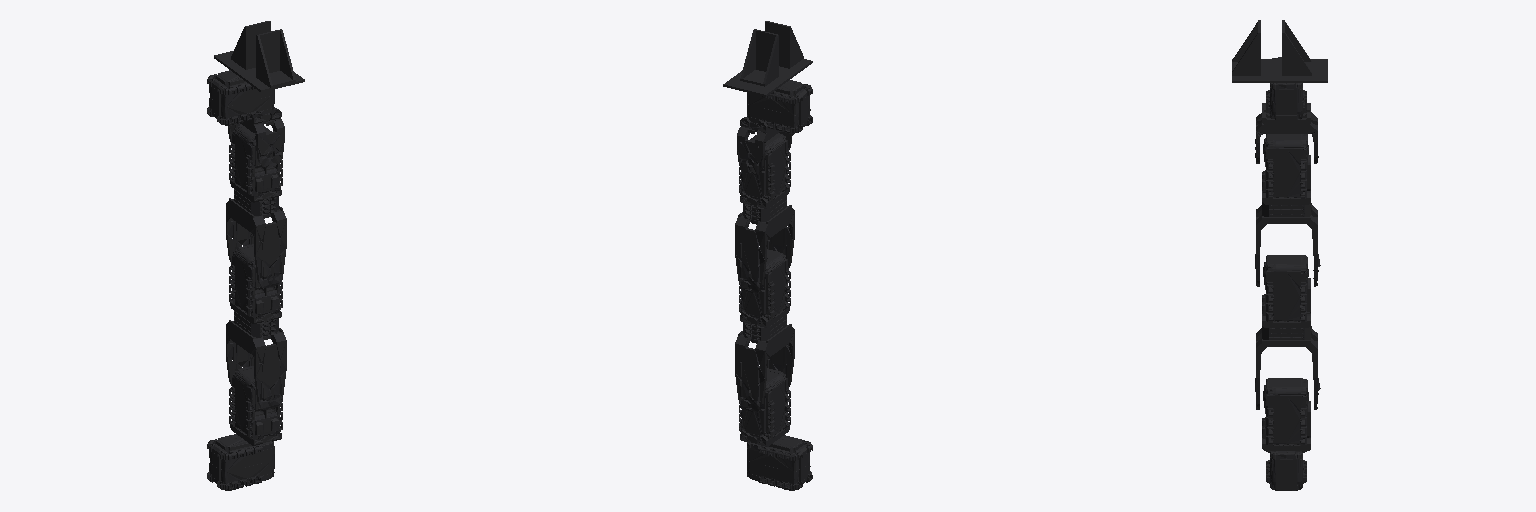
robot.urdf — turtlebot_arm:
<?xml version="1.0" ?>
<!-- =================================================================================== -->
<!-- |    This document was autogenerated by xacro from pincher_arm.urdf.xacro         | -->
<!-- |    EDITING THIS FILE BY HAND IS NOT RECOMMENDED                                 | -->
<!-- =================================================================================== -->
<!-- Describe URDF for PhantomX Pincher Arm -->
<robot name="turtlebot_arm" xmlns:xacro="http://ros.org/wiki/xacro">
  <!-- We can configure joints velocity limit and lower/upper limits
          to allow access to different operational areas, e.g. left handed vs. right handed robot -->
  <!-- Included URDF Files -->
  <!-- Pincher arm is same as Turtlebot -->
  <material name="White">
    <color rgba="0.87 0.90 0.87 1.0"/>
  </material>
  <material name="Black">
    <color rgba="0.08 0.08 0.08 1.0"/>
  </material>
  <material name="Gray">
    <color rgba="0.2 0.2 0.21 1.0"/>
  </material>
  <material name="Green">
    <color rgba="0.22 0.32 0.14 1.0"/>
  </material>
  <!-- As we don't have here a turtlebot base, add a base_link link as its location reference -->
  <link name="base_link"/>
  <!-- Turtlebot arm macro -->
  <link name="arm_base_link"/>
  <joint name="arm_base_joint" type="fixed">
    <origin xyz="0.1 0.03 0.435"/>
    <parent link="base_link"/>
    <child link="arm_base_link"/>
  </joint>
  <link name="gripper_link"/>
  <joint name="gripper_link_joint" type="revolute">
    <origin rpy="0 -1.57 0" xyz="0 0 0.112"/>
    <parent link="arm_wrist_flex_link"/>
    <child link="gripper_link"/>
    <limit effort="30" lower="-3.14" upper="3.14" velocity="1"/>
    <axis xyz="1 0 0"/>
  </joint>
  <joint name="arm_shoulder_pan_servo_joint" type="fixed">
    <origin rpy="1.570795 0 1.570795" xyz="0 0 0"/>
    <parent link="arm_base_link"/>
    <child link="arm_shoulder_pan_servo_link"/>
  </joint>
  <link name="arm_shoulder_pan_servo_link">
    <inertial>
      <mass value="0.055"/>
      <origin xyz="0 0 0"/>
      <inertia ixx="0.000017012" ixy="0.0" ixz="0.0" iyy="0.000013258" iyz="0.0" izz="0.000009483"/>
    </inertial>
    <visual>
      <origin rpy="0 0 0" xyz=" 0 0 0 "/>
      <geometry>
        <mesh filename="package://turtlebot_arm_description/meshes/ax12_box.stl" scale="0.001 0.001 0.001"/>
      </geometry>
      <material name="Gray"/>
    </visual>
    <collision>
      <origin rpy="0 0 0" xyz="0.0 0.0 -0.01241"/>
      <geometry>
        <box size="0.025 0.038 0.04762"/>
      </geometry>
    </collision>
  </link>
  <gazebo reference="arm_shoulder_pan_servo_link">
    <material>Gazebo/Black</material>
    <selfCollide>true</selfCollide>
    <gravity>true</gravity>
  </gazebo>
  <joint name="arm_shoulder_pan_joint" type="revolute">
    <origin rpy="-1.570795 1.570795 3.14159" xyz="0 0.019 0"/>
    <axis xyz="0 0 -1"/>
    <limit effort="30" lower="-2.617" upper="2.617" velocity="1.571"/>
    <dynamics friction="0.13"/>
    <parent link="arm_shoulder_pan_servo_link"/>
    <child link="arm_shoulder_pan_link"/>
  </joint>
  <link name="arm_shoulder_pan_link">
    <inertial>
      <mass value="0.008"/>
      <origin xyz="0 0 0"/>
      <inertia ixx="0.000001" ixy="0.0" ixz="0.0" iyy="0.000001" iyz="0.0" izz="0.000001"/>
    </inertial>
    <visual>
      <origin rpy="0 0 0" xyz=" 0 0 0 "/>
      <geometry>
        <mesh filename="package://turtlebot_arm_description/meshes/F3.stl" scale="0.001 0.001 0.001"/>
      </geometry>
      <material name="Gray"/>
    </visual>
    <collision>
      <origin rpy="0 0 0" xyz="0.0 0.0 -0.0045"/>
      <geometry>
        <box size="0.025 0.038 0.009"/>
      </geometry>
    </collision>
  </link>
  <gazebo reference="arm_shoulder_pan_link">
    <material>Gazebo/Gray</material>
    <selfCollide>true</selfCollide>
    <gravity>true</gravity>
  </gazebo>
  <joint name="arm_shoulder_lift_servo_joint" type="fixed">
    <origin rpy="0 3.14159 0" xyz="0 0 -0.0415"/>
    <parent link="arm_shoulder_pan_link"/>
    <child link="arm_shoulder_lift_servo_link"/>
  </joint>
  <link name="arm_shoulder_lift_servo_link">
    <inertial>
      <mass value="0.055"/>
      <origin xyz="0 0 0"/>
      <inertia ixx="0.000017012" ixy="0.0" ixz="0.0" iyy="0.000013258" iyz="0.0" izz="0.000009483"/>
    </inertial>
    <visual>
      <origin rpy="0 0 0" xyz=" 0 0 0 "/>
      <geometry>
        <mesh filename="package://turtlebot_arm_description/meshes/ax12_box.stl" scale="0.001 0.001 0.001"/>
      </geometry>
      <material name="Gray"/>
    </visual>
    <collision>
      <origin rpy="0 0 0" xyz="0.0 0.0 -0.01241"/>
      <geometry>
        <box size="0.025 0.038 0.04762"/>
      </geometry>
    </collision>
  </link>
  <gazebo reference="arm_shoulder_lift_servo_link">
    <material>Gazebo/Black</material>
    <selfCollide>true</selfCollide>
    <gravity>true</gravity>
  </gazebo>
  <joint name="arm_shoulder_lift_joint" type="revolute">
    <origin rpy="0 0 0" xyz="0 0 0"/>
    <axis xyz="0 1 0"/>
    <limit effort="30" lower="-2.617" upper="2.617" velocity="1.571"/>
    <dynamics friction="0.13"/>
    <parent link="arm_shoulder_lift_servo_link"/>
    <child link="arm_shoulder_lift_link"/>
  </joint>
  <link name="arm_shoulder_lift_link">
    <inertial>
      <mass value="0.016"/>
      <origin xyz="0 0 0"/>
      <inertia ixx="0.000001" ixy="0.0" ixz="0.0" iyy="0.000001" iyz="0.0" izz="0.000001"/>
    </inertial>
    <visual>
      <origin rpy="0 0 0" xyz=" 0 0 0 "/>
      <geometry>
        <mesh filename="package://turtlebot_arm_description/meshes/F4.stl" scale="0.001 0.001 0.001"/>
      </geometry>
      <material name="Gray"/>
    </visual>
    <collision>
      <origin rpy="0 0 0" xyz="0.0 0.0 0.0215"/>
      <geometry>
        <box size="0.028 0.0485 0.065"/>
      </geometry>
    </collision>
  </link>
  <gazebo reference="arm_shoulder_lift_link">
    <material>Gazebo/Gray</material>
    <selfCollide>true</selfCollide>
    <gravity>true</gravity>
  </gazebo>
  <joint name="arm_shoulder_F10_0_joint" type="fixed">
    <origin rpy="0 0 0" xyz="0 0 0.0545"/>
    <parent link="arm_shoulder_lift_link"/>
    <child link="arm_shoulder_F10_0_link"/>
  </joint>
  <link name="arm_shoulder_F10_0_link">
    <inertial>
      <mass value="0.004"/>
      <origin xyz="0 0 0"/>
      <inertia ixx="0.000001" ixy="0.0" ixz="0.0" iyy="0.000001" iyz="0.0" izz="0.000001"/>
    </inertial>
    <visual>
      <origin rpy="0 0 0" xyz=" 0 0 0 "/>
      <geometry>
        <mesh filename="package://turtlebot_arm_description/meshes/F10.stl" scale="0.001 0.001 0.001"/>
      </geometry>
      <material name="Gray"/>
    </visual>
    <collision>
      <origin rpy="0 0 0" xyz="0.0 0.0 0.0"/>
      <geometry>
        <box size="0.025 0.038 0.004"/>
      </geometry>
    </collision>
  </link>
  <gazebo reference="arm_shoulder_F10_0_link">
    <material>Gazebo/Gray</material>
    <selfCollide>true</selfCollide>
    <gravity>true</gravity>
  </gazebo>
  <joint name="arm_shoulder_F10_1_joint" type="fixed">
    <origin rpy="0 0 0" xyz="0 0 0.004"/>
    <parent link="arm_shoulder_F10_0_link"/>
    <child link="arm_shoulder_F10_1_link"/>
  </joint>
  <link name="arm_shoulder_F10_1_link">
    <inertial>
      <mass value="0.004"/>
      <origin xyz="0 0 0"/>
      <inertia ixx="0.000001" ixy="0.0" ixz="0.0" iyy="0.000001" iyz="0.0" izz="0.000001"/>
    </inertial>
    <visual>
      <origin rpy="0 0 0" xyz=" 0 0 0 "/>
      <geometry>
        <mesh filename="package://turtlebot_arm_description/meshes/F10.stl" scale="0.001 0.001 0.001"/>
      </geometry>
      <material name="Gray"/>
    </visual>
    <collision>
      <origin rpy="0 0 0" xyz="0.0 0.0 0.0"/>
      <geometry>
        <box size="0.025 0.038 0.004"/>
      </geometry>
    </collision>
  </link>
  <gazebo reference="arm_shoulder_F10_1_link">
    <material>Gazebo/Gray</material>
    <selfCollide>true</selfCollide>
    <gravity>true</gravity>
  </gazebo>
  <joint name="arm_shoulder_F10_2_joint" type="fixed">
    <origin rpy="0 0 0" xyz="0 0 0.004"/>
    <parent link="arm_shoulder_F10_1_link"/>
    <child link="arm_shoulder_F10_2_link"/>
  </joint>
  <link name="arm_shoulder_F10_2_link">
    <inertial>
      <mass value="0.004"/>
      <origin xyz="0 0 0"/>
      <inertia ixx="0.000001" ixy="0.0" ixz="0.0" iyy="0.000001" iyz="0.0" izz="0.000001"/>
    </inertial>
    <visual>
      <origin rpy="0 0 0" xyz=" 0 0 0 "/>
      <geometry>
        <mesh filename="package://turtlebot_arm_description/meshes/F10.stl" scale="0.001 0.001 0.001"/>
      </geometry>
      <material name="Gray"/>
    </visual>
    <collision>
      <origin rpy="0 0 0" xyz="0.0 0.0 0.0"/>
      <geometry>
        <box size="0.025 0.038 0.004"/>
      </geometry>
    </collision>
  </link>
  <gazebo reference="arm_shoulder_F10_2_link">
    <material>Gazebo/Gray</material>
    <selfCollide>true</selfCollide>
    <gravity>true</gravity>
  </gazebo>
  <joint name="arm_shoulder_F3_0_joint" type="fixed">
    <origin rpy="0 3.14159 0" xyz="0 0 0.002"/>
    <parent link="arm_shoulder_F10_2_link"/>
    <child link="arm_shoulder_F3_0_link"/>
  </joint>
  <link name="arm_shoulder_F3_0_link">
    <inertial>
      <mass value="0.005"/>
      <origin xyz="0 0 0"/>
      <inertia ixx="0.000001" ixy="0.0" ixz="0.0" iyy="0.000001" iyz="0.0" izz="0.000001"/>
    </inertial>
    <visual>
      <origin rpy="0 0 0" xyz=" 0 0 0 "/>
      <geometry>
        <mesh filename="package://turtlebot_arm_description/meshes/F3.stl" scale="0.001 0.001 0.001"/>
      </geometry>
      <material name="Gray"/>
    </visual>
    <collision>
      <origin rpy="0 0 0" xyz="0.0 0.0 -0.0045"/>
      <geometry>
        <box size="0.025 0.038 0.009"/>
      </geometry>
    </collision>
  </link>
  <gazebo reference="arm_shoulder_F3_0_link">
    <material>Gazebo/Gray</material>
    <selfCollide>true</selfCollide>
    <gravity>true</gravity>
  </gazebo>
  <joint name="arm_elbow_flex_servo_joint" type="fixed">
    <origin rpy="0 3.14159 0" xyz="0 0 -0.0415"/>
    <parent link="arm_shoulder_F3_0_link"/>
    <child link="arm_elbow_flex_servo_link"/>
  </joint>
  <link name="arm_elbow_flex_servo_link">
    <inertial>
      <mass value="0.055"/>
      <origin xyz="0 0 0"/>
      <inertia ixx="0.000017012" ixy="0.0" ixz="0.0" iyy="0.000013258" iyz="0.0" izz="0.000009483"/>
    </inertial>
    <visual>
      <origin rpy="0 0 0" xyz=" 0 0 0 "/>
      <geometry>
        <mesh filename="package://turtlebot_arm_description/meshes/ax12_box.stl" scale="0.001 0.001 0.001"/>
      </geometry>
      <material name="Gray"/>
    </visual>
    <collision>
      <origin rpy="0 0 0" xyz="0.0 0.0 -0.01241"/>
      <geometry>
        <box size="0.025 0.038 0.04762"/>
      </geometry>
    </collision>
  </link>
  <gazebo reference="arm_elbow_flex_servo_link">
    <material>Gazebo/Black</material>
    <selfCollide>true</selfCollide>
    <gravity>true</gravity>
  </gazebo>
  <joint name="arm_elbow_flex_joint" type="revolute">
    <origin rpy="0 0 0" xyz="0 0 0"/>
    <axis xyz="0 1 0"/>
    <limit effort="30" lower="-2.617" upper="2.617" velocity="1.571"/>
    <dynamics friction="0.13"/>
    <parent link="arm_elbow_flex_servo_link"/>
    <child link="arm_elbow_flex_link"/>
  </joint>
  <link name="arm_elbow_flex_link">
    <inertial>
      <mass value="0.016"/>
      <origin xyz="0 0 0"/>
      <inertia ixx="0.000001" ixy="0.0" ixz="0.0" iyy="0.000001" iyz="0.0" izz="0.000001"/>
    </inertial>
    <visual>
      <origin rpy="0 0 0" xyz=" 0 0 0 "/>
      <geometry>
        <mesh filename="package://turtlebot_arm_description/meshes/F4.stl" scale="0.001 0.001 0.001"/>
      </geometry>
      <material name="Gray"/>
    </visual>
    <collision>
      <origin rpy="0 0 0" xyz="0.0 0.0 0.0215"/>
      <geometry>
        <box size="0.028 0.0485 0.065"/>
      </geometry>
    </collision>
  </link>
  <gazebo reference="arm_elbow_flex_link">
    <material>Gazebo/Gray</material>
    <selfCollide>true</selfCollide>
    <gravity>true</gravity>
  </gazebo>
  <joint name="arm_elbow_F10_0_joint" type="fixed">
    <origin rpy="0 0 0" xyz="0 0 0.0545"/>
    <parent link="arm_elbow_flex_link"/>
    <child link="arm_elbow_F10_0_link"/>
  </joint>
  <link name="arm_elbow_F10_0_link">
    <inertial>
      <mass value="0.004"/>
      <origin xyz="0 0 0"/>
      <inertia ixx="0.000001" ixy="0.0" ixz="0.0" iyy="0.000001" iyz="0.0" izz="0.000001"/>
    </inertial>
    <visual>
      <origin rpy="0 0 0" xyz=" 0 0 0 "/>
      <geometry>
        <mesh filename="package://turtlebot_arm_description/meshes/F10.stl" scale="0.001 0.001 0.001"/>
      </geometry>
      <material name="Gray"/>
    </visual>
    <collision>
      <origin rpy="0 0 0" xyz="0.0 0.0 0.0"/>
      <geometry>
        <box size="0.025 0.038 0.004"/>
      </geometry>
    </collision>
  </link>
  <gazebo reference="arm_elbow_F10_0_link">
    <material>Gazebo/Gray</material>
    <selfCollide>true</selfCollide>
    <gravity>true</gravity>
  </gazebo>
  <joint name="arm_elbow_F10_1_joint" type="fixed">
    <origin rpy="0 0 0" xyz="0 0 0.004"/>
    <parent link="arm_elbow_F10_0_link"/>
    <child link="arm_elbow_F10_1_link"/>
  </joint>
  <link name="arm_elbow_F10_1_link">
    <inertial>
      <mass value="0.004"/>
      <origin xyz="0 0 0"/>
      <inertia ixx="0.000001" ixy="0.0" ixz="0.0" iyy="0.000001" iyz="0.0" izz="0.000001"/>
    </inertial>
    <visual>
      <origin rpy="0 0 0" xyz=" 0 0 0 "/>
      <geometry>
        <mesh filename="package://turtlebot_arm_description/meshes/F10.stl" scale="0.001 0.001 0.001"/>
      </geometry>
      <material name="Gray"/>
    </visual>
    <collision>
      <origin rpy="0 0 0" xyz="0.0 0.0 0.0"/>
      <geometry>
        <box size="0.025 0.038 0.004"/>
      </geometry>
    </collision>
  </link>
  <gazebo reference="arm_elbow_F10_1_link">
    <material>Gazebo/Gray</material>
    <selfCollide>true</selfCollide>
    <gravity>true</gravity>
  </gazebo>
  <joint name="arm_elbow_F10_2_joint" type="fixed">
    <origin rpy="0 0 0" xyz="0 0 0.004"/>
    <parent link="arm_elbow_F10_1_link"/>
    <child link="arm_elbow_F10_2_link"/>
  </joint>
  <link name="arm_elbow_F10_2_link">
    <inertial>
      <mass value="0.004"/>
      <origin xyz="0 0 0"/>
      <inertia ixx="0.000001" ixy="0.0" ixz="0.0" iyy="0.000001" iyz="0.0" izz="0.000001"/>
    </inertial>
    <visual>
      <origin rpy="0 0 0" xyz=" 0 0 0 "/>
      <geometry>
        <mesh filename="package://turtlebot_arm_description/meshes/F10.stl" scale="0.001 0.001 0.001"/>
      </geometry>
      <material name="Gray"/>
    </visual>
    <collision>
      <origin rpy="0 0 0" xyz="0.0 0.0 0.0"/>
      <geometry>
        <box size="0.025 0.038 0.004"/>
      </geometry>
    </collision>
  </link>
  <gazebo reference="arm_elbow_F10_2_link">
    <material>Gazebo/Gray</material>
    <selfCollide>true</selfCollide>
    <gravity>true</gravity>
  </gazebo>
  <joint name="arm_elbow_F3_0_joint" type="fixed">
    <origin rpy="0 3.14159 0" xyz="0 0 0.002"/>
    <parent link="arm_elbow_F10_2_link"/>
    <child link="arm_elbow_F3_0_link"/>
  </joint>
  <link name="arm_elbow_F3_0_link">
    <inertial>
      <mass value="0.005"/>
      <origin xyz="0 0 0"/>
      <inertia ixx="0.000001" ixy="0.0" ixz="0.0" iyy="0.000001" iyz="0.0" izz="0.000001"/>
    </inertial>
    <visual>
      <origin rpy="0 0 0" xyz=" 0 0 0 "/>
      <geometry>
        <mesh filename="package://turtlebot_arm_description/meshes/F3.stl" scale="0.001 0.001 0.001"/>
      </geometry>
      <material name="Gray"/>
    </visual>
    <collision>
      <origin rpy="0 0 0" xyz="0.0 0.0 -0.0045"/>
      <geometry>
        <box size="0.025 0.038 0.009"/>
      </geometry>
    </collision>
  </link>
  <gazebo reference="arm_elbow_F3_0_link">
    <material>Gazebo/Gray</material>
    <selfCollide>true</selfCollide>
    <gravity>true</gravity>
  </gazebo>
  <joint name="arm_wrist_flex_servo_joint" type="fixed">
    <origin rpy="0 3.14159 0" xyz="0 0 -0.0415"/>
    <parent link="arm_elbow_F3_0_link"/>
    <child link="arm_wrist_flex_servo_link"/>
  </joint>
  <link name="arm_wrist_flex_servo_link">
    <inertial>
      <mass value="0.055"/>
      <origin xyz="0 0 0"/>
      <inertia ixx="0.000017012" ixy="0.0" ixz="0.0" iyy="0.000013258" iyz="0.0" izz="0.000009483"/>
    </inertial>
    <visual>
      <origin rpy="0 0 0" xyz=" 0 0 0 "/>
      <geometry>
        <mesh filename="package://turtlebot_arm_description/meshes/ax12_box.stl" scale="0.001 0.001 0.001"/>
      </geometry>
      <material name="Gray"/>
    </visual>
    <collision>
      <origin rpy="0 0 0" xyz="0.0 0.0 -0.01241"/>
      <geometry>
        <box size="0.025 0.038 0.04762"/>
      </geometry>
    </collision>
  </link>
  <gazebo reference="arm_wrist_flex_servo_link">
    <material>Gazebo/Black</material>
    <selfCollide>true</selfCollide>
    <gravity>true</gravity>
  </gazebo>
  <joint name="arm_wrist_flex_joint" type="revolute">
    <origin rpy="0 0 0" xyz="0 0 0"/>
    <axis xyz="0 1 0"/>
    <limit effort="30" lower="-1.745" upper="1.745" velocity="1.571"/>
    <dynamics friction="0.13"/>
    <parent link="arm_wrist_flex_servo_link"/>
    <child link="arm_wrist_flex_link"/>
  </joint>
  <link name="arm_wrist_flex_link">
    <inertial>
      <mass value="0.010"/>
      <origin xyz="0 0 0"/>
      <inertia ixx="0.000001" ixy="0.0" ixz="0.0" iyy="0.000001" iyz="0.0" izz="0.000001"/>
    </inertial>
    <visual>
      <origin rpy="0 0 0" xyz=" 0 0 0 "/>
      <geometry>
        <mesh filename="package://turtlebot_arm_description/meshes/F2.stl" scale="0.001 0.001 0.001"/>
      </geometry>
      <material name="Gray"/>
    </visual>
    <collision>
      <origin rpy="0 0 0" xyz="0.0 0.0 0.00775"/>
      <geometry>
        <box size="0.025 0.0485 0.0375"/>
      </geometry>
    </collision>
  </link>
  <gazebo reference="arm_wrist_flex_link">
    <material>Gazebo/Gray</material>
    <selfCollide>true</selfCollide>
    <gravity>true</gravity>
  </gazebo>
  <joint name="arm_wrist_F3_0_joint" type="fixed">
    <origin rpy="0 3.14159 -3.14159" xyz="0 0 0.0265"/>
    <parent link="arm_wrist_flex_link"/>
    <child link="arm_wrist_F3_0_link"/>
  </joint>
  <link name="arm_wrist_F3_0_link">
    <inertial>
      <mass value="0.005"/>
      <origin xyz="0 0 0"/>
      <inertia ixx="0.000001" ixy="0.0" ixz="0.0" iyy="0.000001" iyz="0.0" izz="0.000001"/>
    </inertial>
    <visual>
      <origin rpy="0 0 0" xyz=" 0 0 0 "/>
      <geometry>
        <mesh filename="package://turtlebot_arm_description/meshes/F3.stl" scale="0.001 0.001 0.001"/>
      </geometry>
      <material name="Gray"/>
    </visual>
    <collision>
      <origin rpy="0 0 0" xyz="0.0 0.0 -0.0045"/>
      <geometry>
        <box size="0.025 0.038 0.009"/>
      </geometry>
    </collision>
  </link>
  <gazebo reference="arm_wrist_F3_0_link">
    <material>Gazebo/Gray</material>
    <selfCollide>true</selfCollide>
    <gravity>true</gravity>
  </gazebo>
  <joint name="gripper_servo_joint" type="fixed">
    <origin rpy="1.570795 3.14159 1.570795" xyz="0 0 -0.019"/>
    <parent link="arm_wrist_F3_0_link"/>
    <child link="gripper_servo_link"/>
  </joint>
  <link name="gripper_servo_link">
    <inertial>
      <mass value="0.055"/>
      <origin xyz="0 0 0"/>
      <inertia ixx="0.000017012" ixy="0.0" ixz="0.0" iyy="0.000013258" iyz="0.0" izz="0.000009483"/>
    </inertial>
    <visual>
      <origin rpy="0 0 0" xyz=" 0 0 0 "/>
      <geometry>
        <mesh filename="package://turtlebot_arm_description/meshes/ax12_box.stl" scale="0.001 0.001 0.001"/>
      </geometry>
      <material name="Gray"/>
    </visual>
    <collision>
      <origin rpy="0 0 0" xyz="0.0 0.0 -0.01241"/>
      <geometry>
        <box size="0.025 0.038 0.04762"/>
      </geometry>
    </collision>
  </link>
  <gazebo reference="gripper_servo_link">
    <material>Gazebo/Black</material>
    <selfCollide>true</selfCollide>
    <gravity>true</gravity>
  </gazebo>
  <joint name="gripper_finger_base_joint" type="fixed">
    <origin rpy="1.570795 -3.14159 1.570795" xyz="0.01  0.038 0"/>
    <parent link="gripper_servo_link"/>
    <child link="gripper_finger_base_link"/>
  </joint>
  <link name="gripper_finger_base_link">
    <inertial>
      <mass value="0.00001"/>
      <origin xyz="0 0 0"/>
      <inertia ixx="1.0" ixy="0.0" ixz="0.0" iyy="1.0" iyz="0.0" izz="1.0"/>
    </inertial>
    <visual>
      <origin rpy="3.14159 -1.570795 1.570795" xyz="0.016 0 -.015 "/>
      <geometry>
        <mesh filename="package://turtlebot_arm_description/meshes/pincher_finger_base.stl" scale=".01 .01 .01"/>
      </geometry>
      <material name="Gray"/>
    </visual>
    <collision>
      <origin rpy="0 0 0" xyz="0.015 0 -0.0135"/>
      <geometry>
        <box size="0.002 0.040 0.075"/>
      </geometry>
    </collision>
  </link>
  <gazebo reference="gripper_finger_base_link">
    <material>Gazebo/Gray</material>
    <selfCollide>true</selfCollide>
    <gravity>true</gravity>
  </gazebo>
  <joint name="gripper_joint" type="prismatic">
    <origin rpy="0 0 0" xyz="0 0 0"/>
    <axis xyz="1 0 0"/>
    <limit effort="30" lower="0.002" upper="0.031" velocity="0.5"/>
    <parent link="gripper_servo_link"/>
    <child link="gripper_active_link"/>
  </joint>
  <link name="gripper_active_link">
    <inertial>
      <mass value="0.00001"/>
      <origin xyz="0 0 0"/>
      <inertia ixx="1.0" ixy="0.0" ixz="0.0" iyy="1.0" iyz="0.0" izz="1.0"/>
    </inertial>
    <visual>
      <origin rpy="-1.570795 0 0" xyz="-0.02 0.023 0"/>
      <geometry>
        <mesh filename="package://turtlebot_arm_description/meshes/pincher_finger.stl" scale=".01 .01 .01"/>
      </geometry>
      <material name="Gray"/>
    </visual>
    <collision>
      <origin rpy="-1.570795 0 0" xyz="-0.02 0.023 0"/>
      <geometry>
        <box size="0.036 0.028 0.004"/>
      </geometry>
    </collision>
  </link>
  <gazebo reference="gripper_active_link">
    <material>Gazebo/Gray</material>
    <selfCollide>true</selfCollide>
    <gravity>true</gravity>
  </gazebo>
  <joint name="gripper2_joint" type="fixed">
    <parent link="gripper_servo_link"/>
    <child link="gripper_active2_link"/>
  </joint>
  <link name="gripper_active2_link">
    <inertial>
      <mass value="0.00001"/>
      <origin xyz="0 0 0"/>
      <inertia ixx="1.0" ixy="0.0" ixz="0.0" iyy="1.0" iyz="0.0" izz="1.0"/>
    </inertial>
    <visual>
      <origin rpy="-1.570795 3.14159 0" xyz="-0.02 0.023 0"/>
      <geometry>
        <mesh filename="package://turtlebot_arm_description/meshes/pincher_finger.stl" scale=".01 .01 .01"/>
      </geometry>
      <material name="Gray"/>
    </visual>
    <collision>
      <origin rpy="-1.570795 3.14159 0" xyz="-0.02 0.023 0"/>
      <geometry>
        <box size="0.036 0.028 0.004"/>
      </geometry>
    </collision>
  </link>
  <gazebo reference="gripper_active2_link">
    <material>Gazebo/Gray</material>
    <selfCollide>true</selfCollide>
    <gravity>true</gravity>
  </gazebo>
</robot>

--- Facts derived from the render (not from the file) ---
3 views of the same robot in one strip: view 1: azimuth 30°, elevation 25°; view 2: azimuth 150°, elevation 25°; view 3: azimuth 270°, elevation 25° (orthographic).
Robot: turtlebot_arm — 24 links, 23 joints (5 revolute, 1 prismatic, 17 fixed); root link base_link; default pose: joints at zero except 1 at the middle of their limits (gripper_joint = 0.0165).
Links seen in each view (by area): view 1: arm_elbow_flex_link, arm_shoulder_lift_link, arm_shoulder_pan_servo_link, gripper_servo_link, arm_shoulder_lift_servo_link, arm_elbow_flex_servo_link, arm_wrist_flex_servo_link, gripper_active2_link, arm_wrist_flex_link, gripper_active_link, gripper_finger_base_link; view 2: arm_shoulder_lift_link, arm_elbow_flex_link, arm_shoulder_pan_servo_link, gripper_servo_link, arm_elbow_flex_servo_link, arm_shoulder_lift_servo_link, arm_wrist_flex_servo_link, gripper_active_link, arm_wrist_flex_link, gripper_finger_base_link, gripper_active2_link; view 3: arm_shoulder_lift_servo_link, arm_elbow_flex_servo_link, arm_wrist_flex_servo_link, arm_shoulder_pan_servo_link, gripper_servo_link, gripper_finger_base_link, arm_elbow_flex_link, arm_shoulder_lift_link, gripper_active_link, gripper_active2_link, arm_wrist_flex_link.
Boxes of the visible links, x1,y1,x2,y2 form: arm_elbow_flex_link: (226, 198, 286, 287); arm_shoulder_lift_link: (226, 320, 286, 409); arm_shoulder_pan_servo_link: (207, 434, 274, 490); gripper_servo_link: (207, 70, 274, 125); arm_shoulder_lift_servo_link: (229, 366, 282, 439); arm_elbow_flex_servo_link: (229, 244, 282, 317); arm_wrist_flex_servo_link: (229, 125, 282, 195); gripper_active2_link: (256, 29, 295, 87); arm_wrist_flex_link: (228, 118, 284, 167); gripper_active_link: (231, 21, 270, 69); gripper_finger_base_link: (214, 51, 304, 92); arm_shoulder_lift_link: (735, 324, 794, 411); arm_elbow_flex_link: (735, 205, 794, 292); arm_shoulder_pan_servo_link: (747, 435, 812, 490); gripper_servo_link: (747, 80, 812, 134); arm_elbow_flex_servo_link: (739, 249, 790, 321); arm_shoulder_lift_servo_link: (739, 368, 790, 440); arm_wrist_flex_servo_link: (739, 133, 790, 202); gripper_active_link: (740, 29, 778, 86); arm_wrist_flex_link: (737, 127, 792, 174); gripper_finger_base_link: (723, 59, 812, 96); gripper_active2_link: (765, 21, 803, 68); arm_shoulder_lift_servo_link: (1262, 378, 1310, 445); arm_elbow_flex_servo_link: (1262, 255, 1310, 322); arm_wrist_flex_servo_link: (1262, 134, 1310, 199); arm_shoulder_pan_servo_link: (1266, 451, 1306, 490); gripper_servo_link: (1266, 57, 1306, 119); gripper_finger_base_link: (1232, 59, 1327, 82); arm_elbow_flex_link: (1255, 205, 1320, 286); arm_shoulder_lift_link: (1255, 328, 1320, 409); gripper_active_link: (1282, 20, 1311, 75); gripper_active2_link: (1232, 20, 1260, 75); arm_wrist_flex_link: (1255, 112, 1318, 163).
Bounding box of the posed robot: 0.0585 × 0.0755 × 0.397 m (x, y, z).
21 mesh visuals loaded from 7 distinct referenced files (7 binary STL).